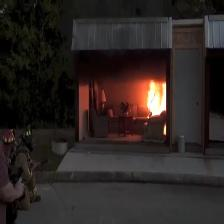fire: (147, 80, 165, 116)
